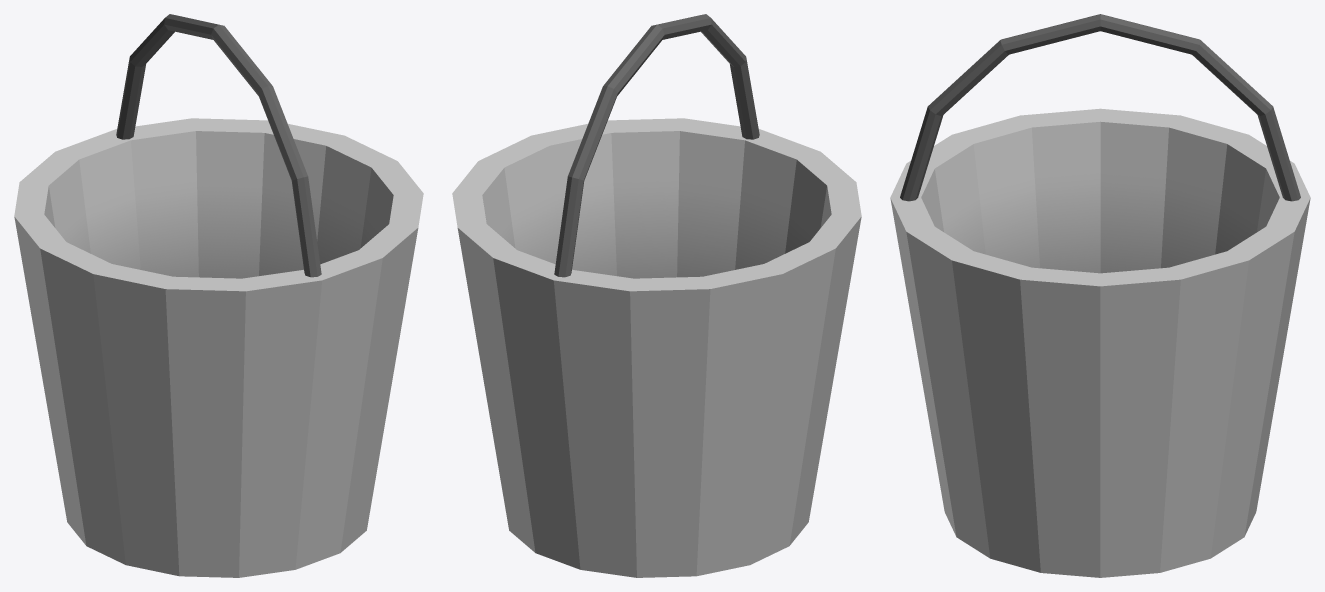
Rendered from Bucket.fbx.
3 views of the same model, side by side, from view 1: azimuth 30°, elevation 25°; view 2: azimuth 150°, elevation 25°; view 3: azimuth 270°, elevation 25° (orthographic).
Parts seen in each view (by area): view 1: Bucket; view 2: Bucket; view 3: Bucket.
Part boxes in pixels (x1,y1,x2,y2): Bucket: [14, 14, 423, 577]; Bucket: [452, 14, 861, 577]; Bucket: [890, 14, 1310, 577].
Size of the model in its own units: 45.98 by 60.07 by 45.98.
